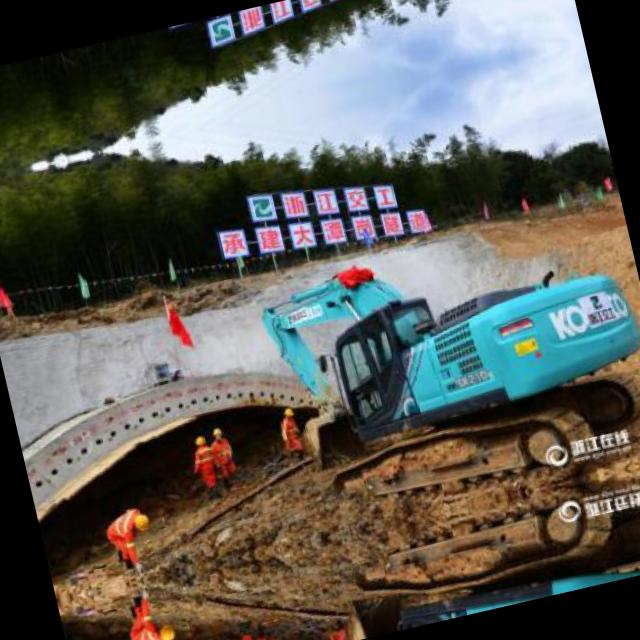helmet: (128, 511, 148, 533), (152, 621, 173, 640), (282, 404, 294, 422), (210, 424, 222, 440), (193, 434, 203, 449)
